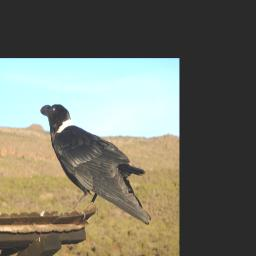Crow: (38, 100, 151, 226)
